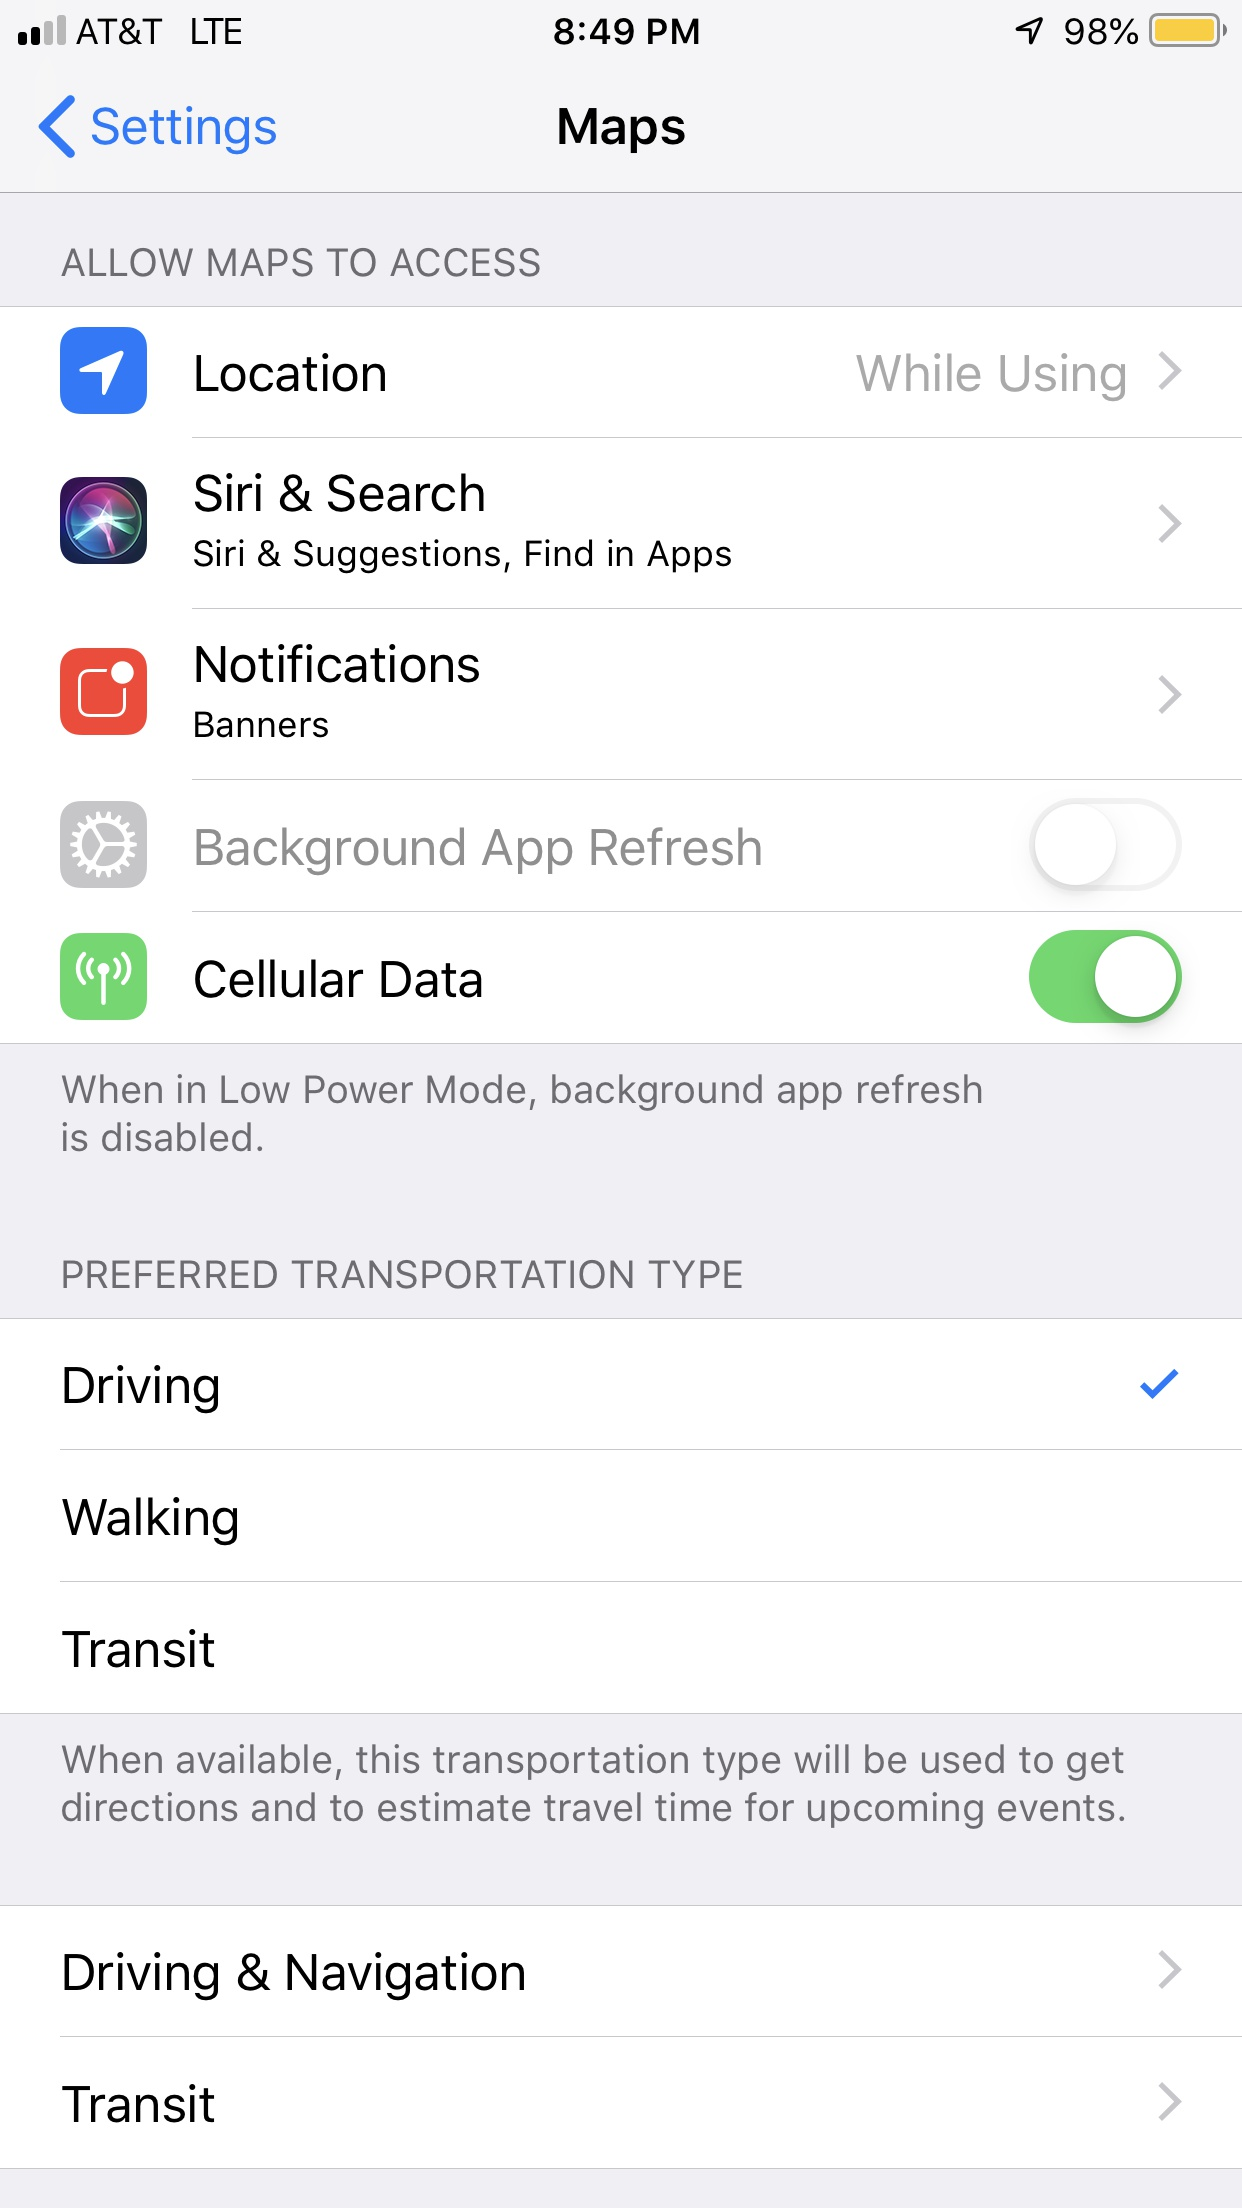Icon: (61, 328, 149, 416), (61, 801, 149, 889), (39, 96, 77, 161), (1139, 1369, 1178, 1400), (1159, 350, 1183, 391), (1159, 503, 1183, 544), (1159, 1949, 1183, 1990), (1159, 2081, 1183, 2122), (1159, 675, 1183, 714)
Image: (61, 478, 149, 566), (61, 648, 149, 735), (61, 933, 149, 1021)
Switch: (1028, 930, 1183, 1024), (1030, 798, 1183, 892)
Text: (62, 1742, 1125, 1830), (62, 1074, 983, 1153), (196, 826, 761, 877), (65, 1952, 526, 2002), (64, 1259, 743, 1291), (194, 538, 732, 575), (61, 249, 541, 279), (855, 353, 1127, 403), (194, 473, 485, 514), (196, 958, 482, 999), (197, 643, 481, 684), (93, 106, 278, 156), (64, 1495, 240, 1545), (64, 1365, 220, 1415), (196, 353, 387, 393), (62, 2084, 215, 2125), (64, 1629, 215, 1670), (558, 108, 685, 155), (196, 711, 331, 739)
UpperTaskBar: (2, 2, 1242, 49)
